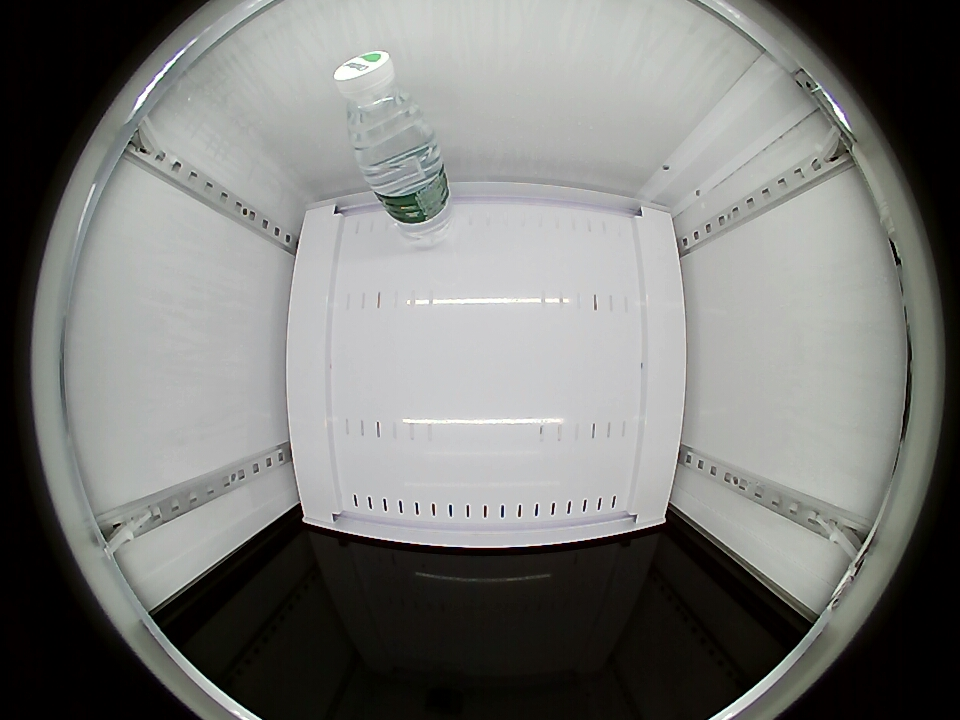yibao: (334, 50, 437, 163)
